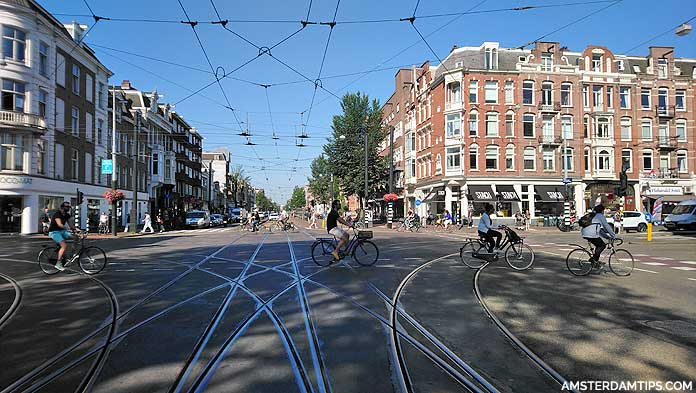commuter: (34, 201, 112, 278), (568, 206, 640, 282), (459, 205, 537, 274), (310, 198, 383, 270)
